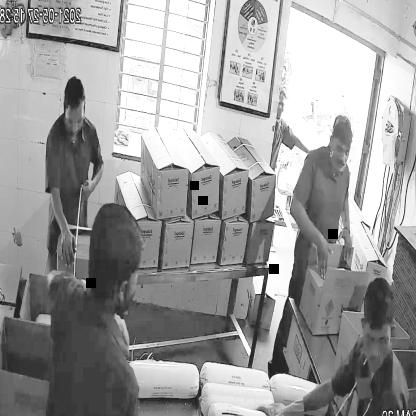no_goggles: (61, 112, 87, 130), (331, 141, 352, 161)
